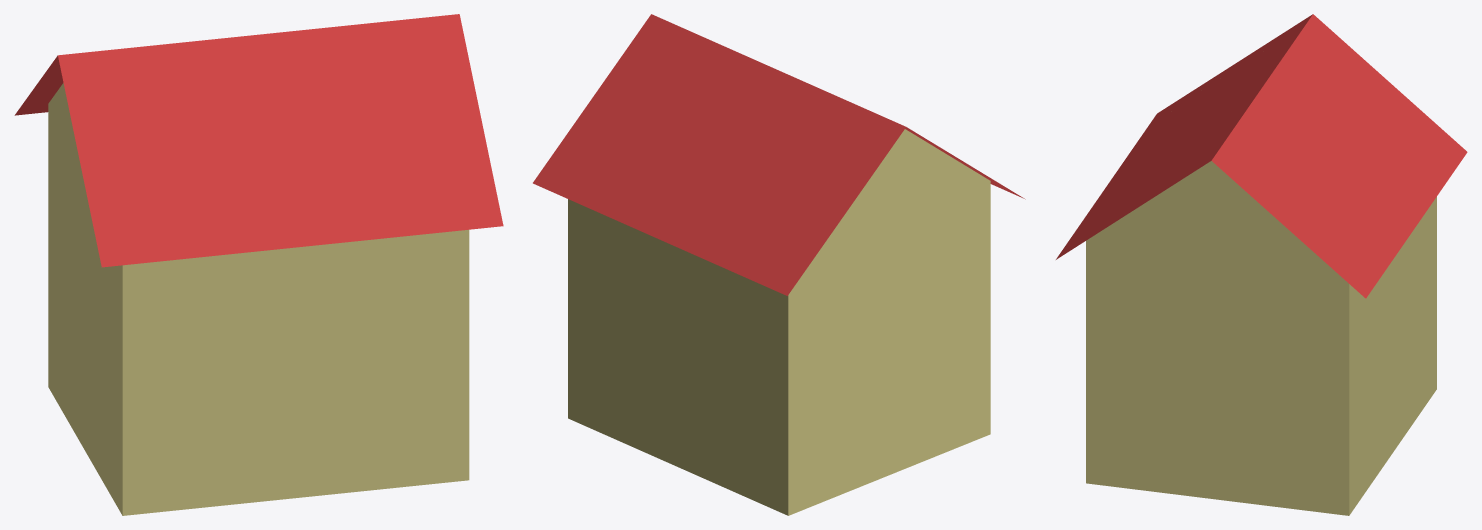
The picture shows the model from 3 angles, left to right: view 1: azimuth 30°, elevation 25°; view 2: azimuth 150°, elevation 25°; view 3: azimuth 270°, elevation 25°; orthographic projection. The views are drawn at different scales.
Bounding box in the file's own units: 13.3 × 12.51 × 11.68.
